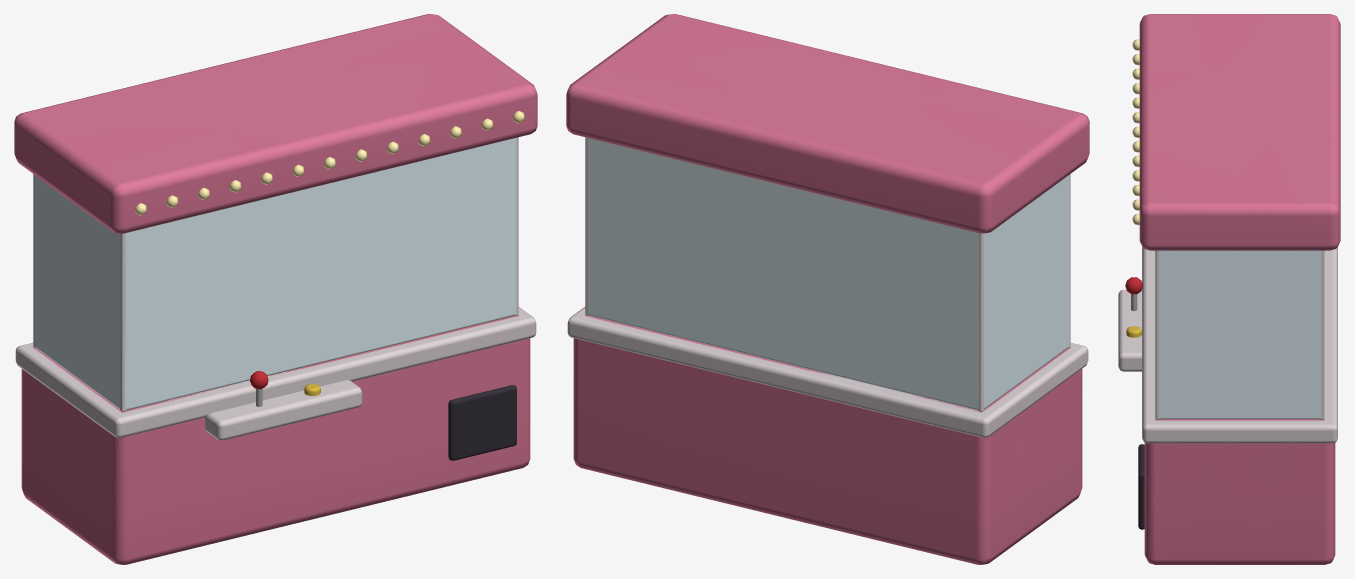
The model's file is furn_claw_machine.glb.
3 renders of one model, left to right at view 1: azimuth 30°, elevation 25°; view 2: azimuth 150°, elevation 25°; view 3: azimuth 270°, elevation 25°, orthographic. The views are drawn at different scales.
Visible parts, largest first — view 1: furn_claw_machine_main, furn_claw_machine_clear, furn_claw_machine_glow; view 2: furn_claw_machine_main, furn_claw_machine_clear; view 3: furn_claw_machine_main, furn_claw_machine_clear, furn_claw_machine_glow.
Boxes of the visible parts, left/top/right/bottom form: furn_claw_machine_main: left=14, top=14, right=537, bottom=564; furn_claw_machine_clear: left=34, top=138, right=516, bottom=410; furn_claw_machine_glow: left=135, top=111, right=524, bottom=215; furn_claw_machine_main: left=566, top=14, right=1089, bottom=564; furn_claw_machine_clear: left=588, top=138, right=1069, bottom=410; furn_claw_machine_main: left=1118, top=14, right=1340, bottom=564; furn_claw_machine_clear: left=1158, top=250, right=1321, bottom=419; furn_claw_machine_glow: left=1132, top=39, right=1139, bottom=225.
Size of the model in its own units: 1.76 by 1.52 by 0.84.
